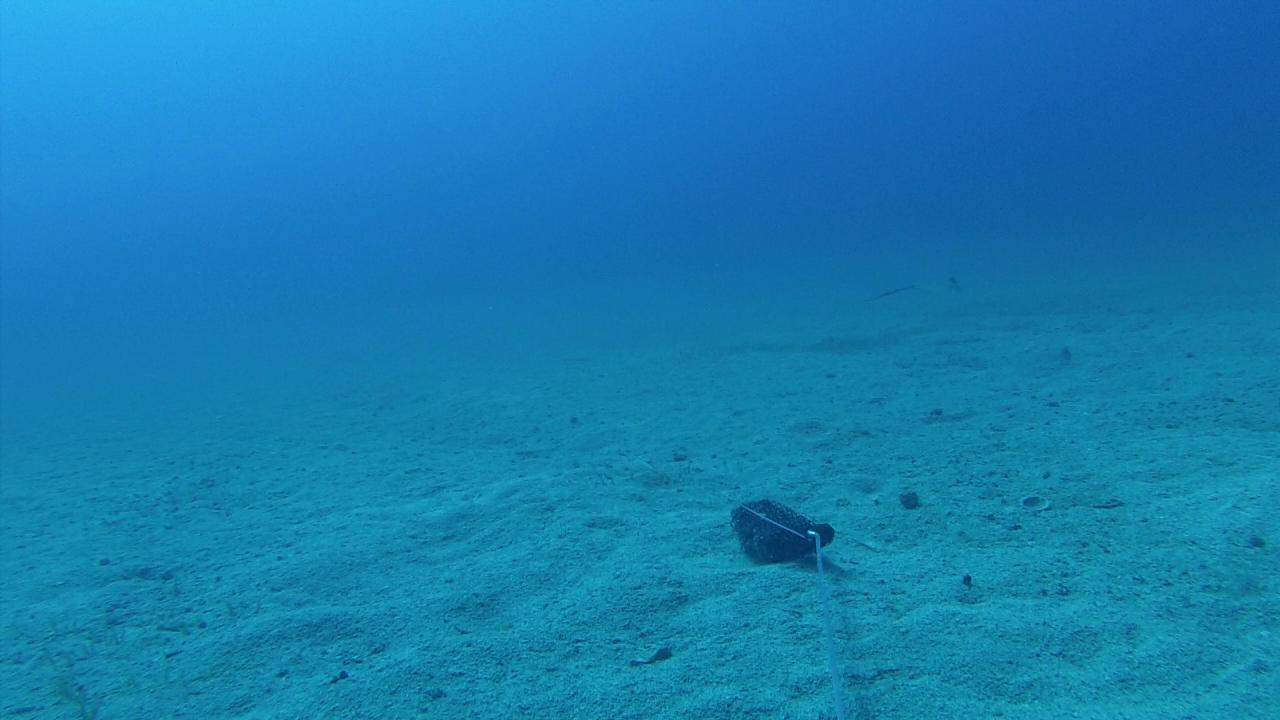dasyatis: (875, 276, 962, 304)
